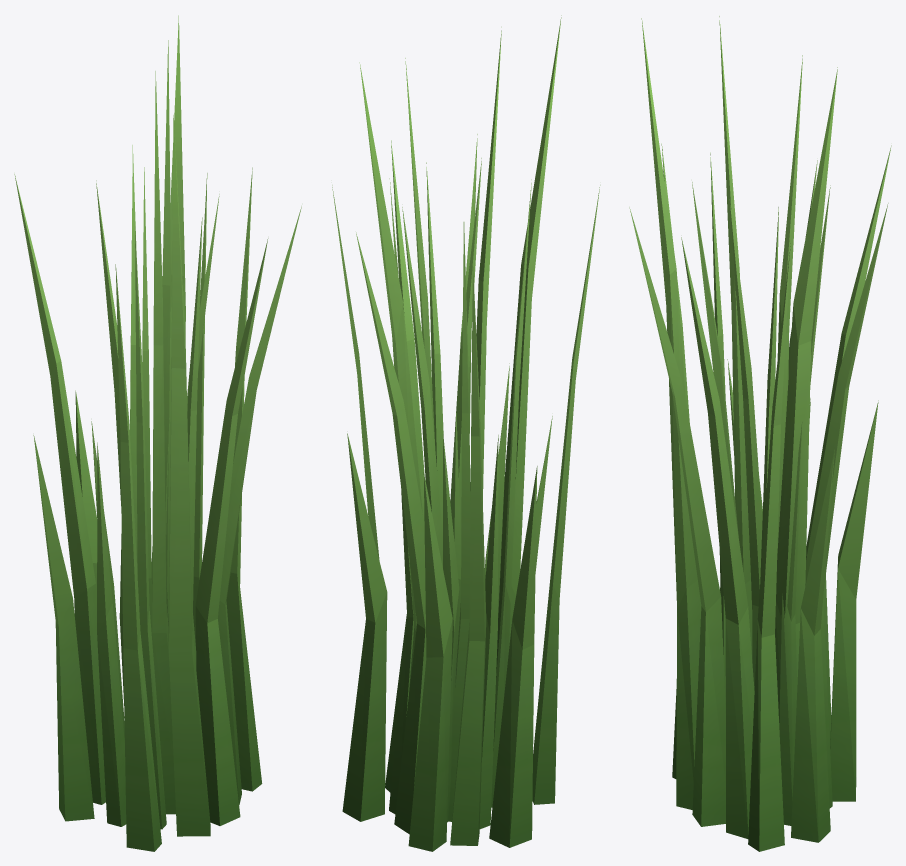
File: tallgrass_c.glb
3 renders of one model, left to right at view 1: azimuth 30°, elevation 25°; view 2: azimuth 150°, elevation 25°; view 3: azimuth 270°, elevation 25°, orthographic.
Parts seen in each view (by area): view 1: GrassHigh_B_4; view 2: GrassHigh_B_4; view 3: GrassHigh_B_4.
Part boxes in pixels (<box>): GrassHigh_B_4: <box>14,15,301,851</box>; GrassHigh_B_4: <box>332,15,600,851</box>; GrassHigh_B_4: <box>629,16,891,851</box>.
Size of the model in its own units: 0.3034 by 1.05 by 0.3227.
Materials: 1 (1 with a texture image).
